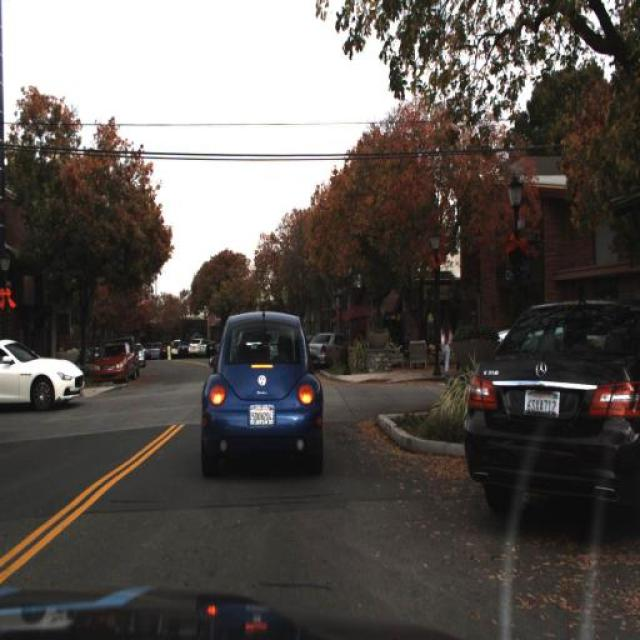car: (463, 300, 632, 528), (196, 300, 328, 481), (0, 330, 91, 414), (92, 340, 138, 386), (306, 323, 352, 369), (187, 337, 205, 358)
trafficLight: (438, 310, 453, 380)
